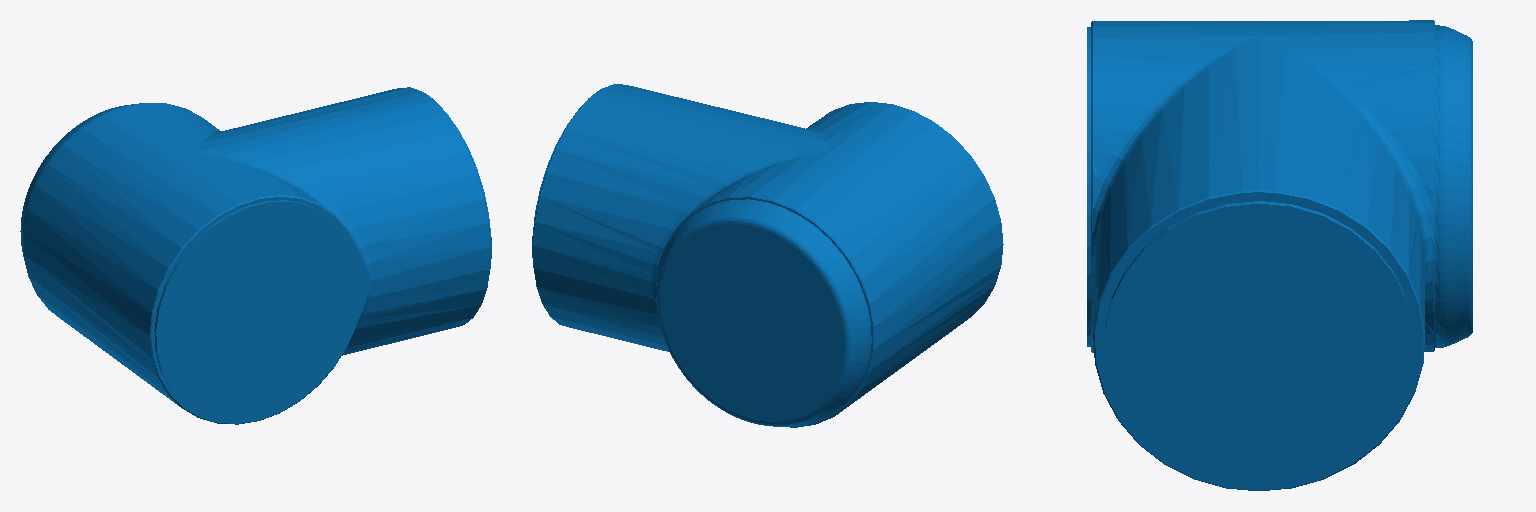
The robot description file, URDF, robot "wrist_flex_link":
<robot name="wrist_flex_link">  
  <link name="wrist_flex_link">
    <inertial>
      <origin rpy="0 0 0" xyz="0.0882 0.0009 -0.0001" />
      <mass value="1.725" />
      <inertia ixx="0.0018" ixy="-0.0001" ixz="-0.0" iyy="0.0042" iyz="0.0" izz="0.0042" />
    </inertial>
    <visual>
      <origin rpy="0 0 0" xyz="0 0 0" />
      <geometry>
        <mesh filename="package://fetch_description/meshes/wrist_flex_link.obj" />
      </geometry>
      <material name="">
        <color rgba="0.086 0.506 0.767 1" />
      </material>
    </visual>
    <collision>
      <origin rpy="0 0 0" xyz="0 0 0" />
      <geometry>
        <mesh filename="package://fetch_description/meshes/wrist_flex_link_collision.STL" />
      </geometry>
    </collision>
  </link>
</robot>

--- Facts derived from the render (not from the file) ---
The picture shows the robot from 3 angles, left to right: view 1: azimuth 30°, elevation 25°; view 2: azimuth 150°, elevation 25°; view 3: azimuth 270°, elevation 25°; orthographic projection.
Robot: wrist_flex_link — 1 links, 0 joints (none); root link wrist_flex_link; default pose: all joints at 0.
Links seen in each view (by area): view 1: wrist_flex_link; view 2: wrist_flex_link; view 3: wrist_flex_link.
Boxes of the visible links, bbox=[...] form: wrist_flex_link: bbox=[20, 87, 491, 424]; wrist_flex_link: bbox=[532, 84, 1003, 427]; wrist_flex_link: bbox=[1087, 20, 1472, 490].
Bounding box of the posed robot: 0.1685 × 0.121 × 0.104 m (x, y, z).
1 mesh visuals loaded from 1 distinct referenced files (1 OBJ).